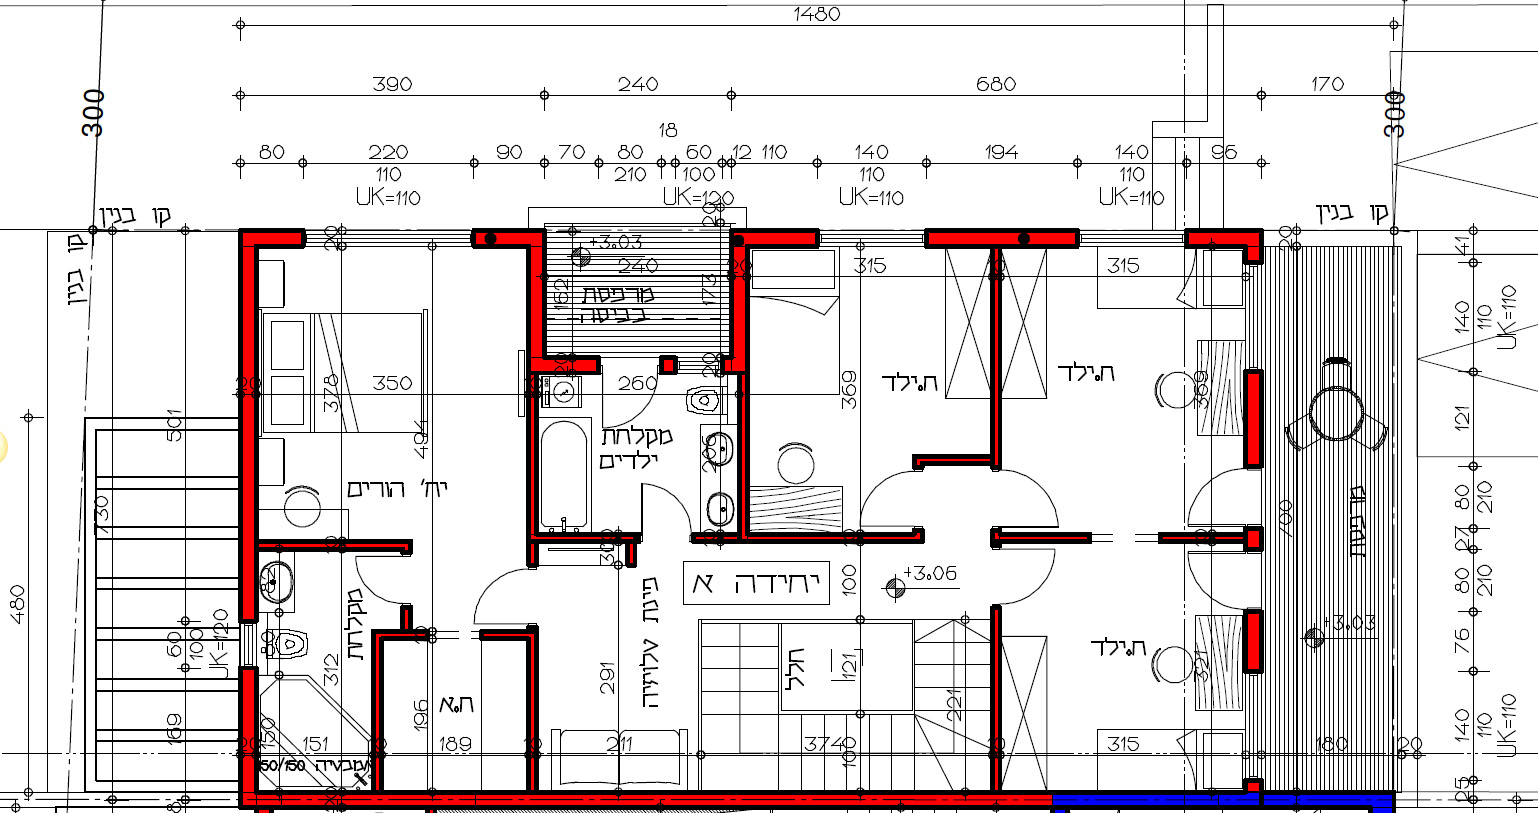door: (1183, 546, 1241, 616), (469, 565, 525, 628), (636, 467, 692, 530), (855, 469, 911, 532), (1008, 467, 1064, 530), (1186, 468, 1242, 531), (349, 553, 401, 609)
window: (305, 228, 471, 245), (817, 230, 927, 249), (1078, 229, 1188, 248), (239, 624, 259, 666)
